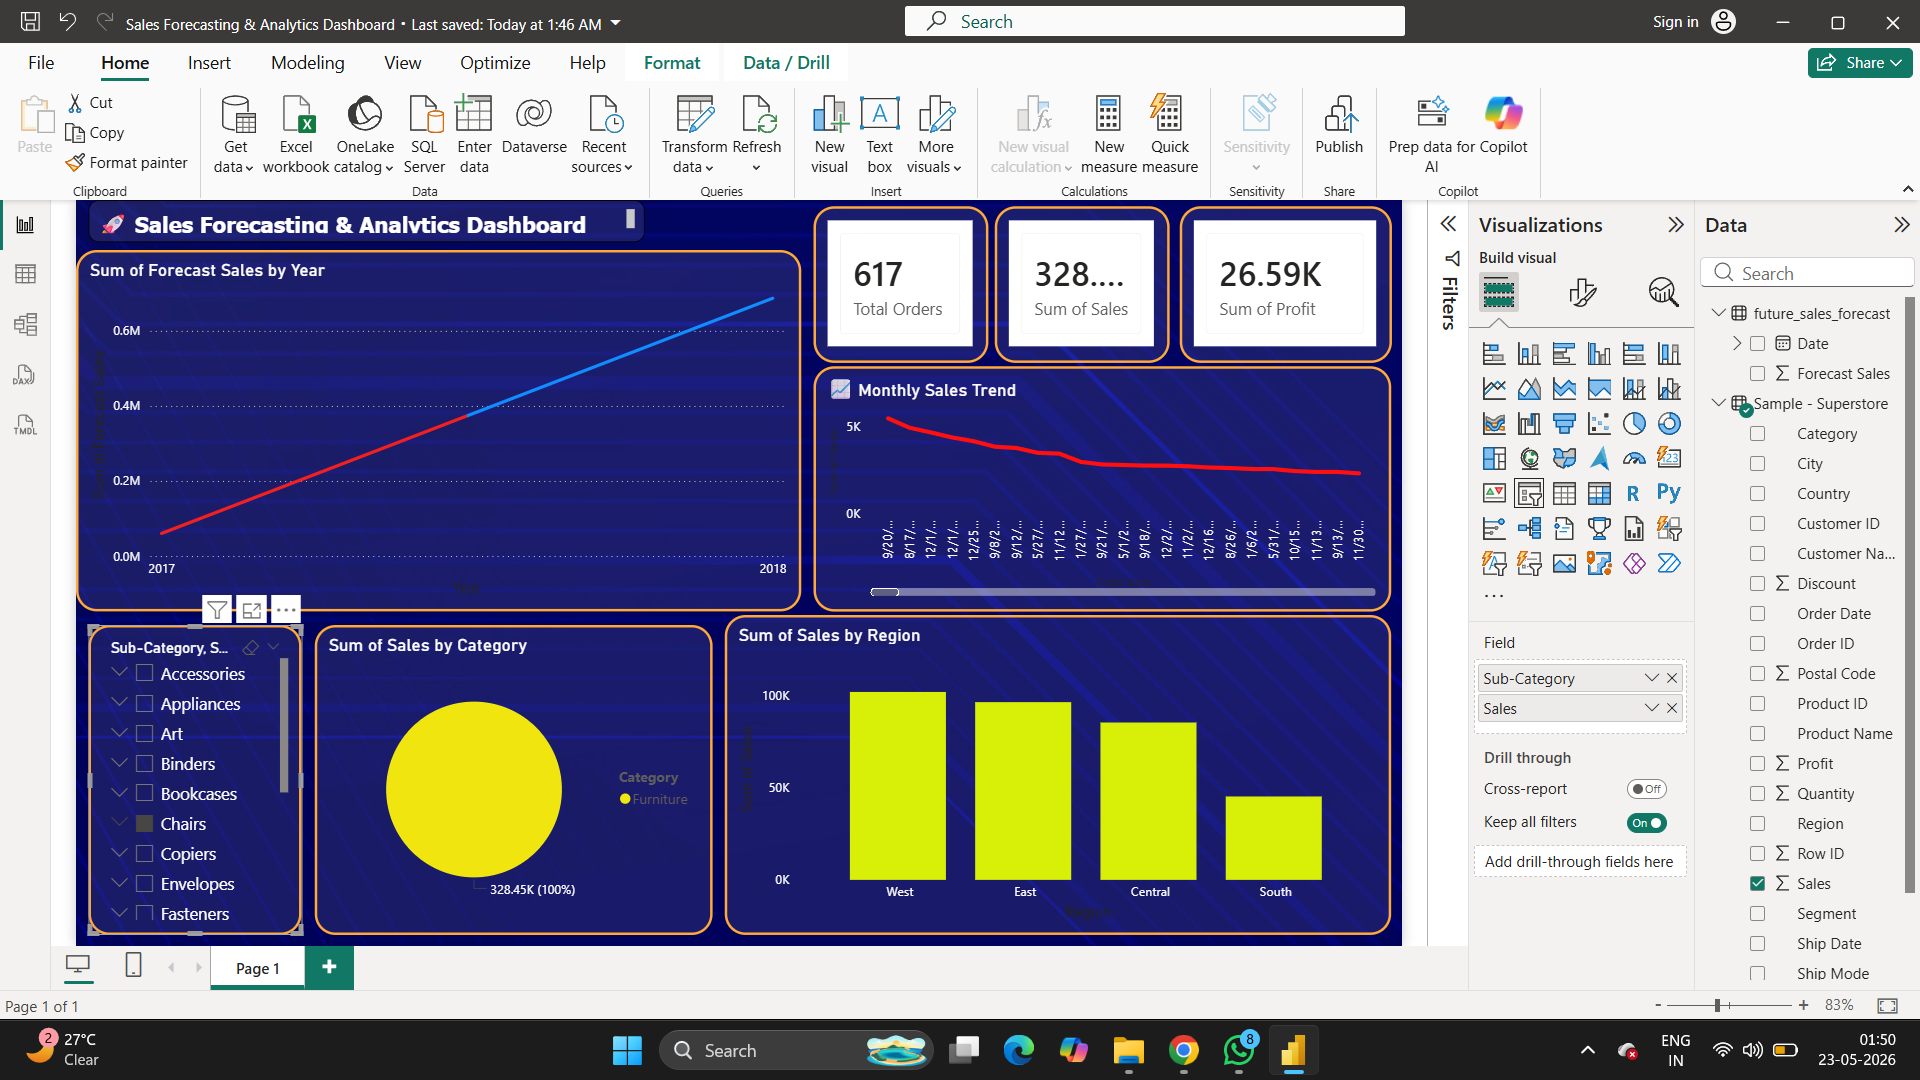

The page's visual inventory and layout, read from the dashboard file:
{"tool":"powerbi","page":{"name":"Page 1","canvas":[1280,720],"ordinal":0},"visuals":[{"type":"cardVisual","fields":{"Data":["Sum(Sample - Superstore.Profit)"]},"box":[1064.8,5.5,204.5,150.9],"z":0},{"type":"cardVisual","fields":{"Data":["Sum(Sample - Superstore.Sales)"]},"box":[886.5,5.5,168.8,150.9],"z":1000},{"type":"cardVisual","fields":{"Data":["Sample - Superstore.Total Orders"]},"box":[712.2,5.5,168.8,150.9],"z":2000},{"type":"lineChart","title":"📈 Monthly Sales Trend","fields":{"Category":["Sample - Superstore.Order Date"],"Y":["Sum(Sample - Superstore.Sales)"]},"box":[12.1,41,690.1,359.5],"z":3000},{"type":"clusteredColumnChart","fields":{"Category":["Sample - Superstore.Region"],"Y":["Sum(Sample - Superstore.Sales)"]},"box":[626.1,410.2,643,299.2],"z":4000},{"type":"pieChart","fields":{"Category":["Sample - Superstore.Category"],"Y":["Sum(Sample - Superstore.Sales)"]},"box":[226.8,410.2,386.1,299.2],"z":5000},{"type":"slicer","fields":{"Values":["Sample - Superstore.Sub-Category","Sample - Superstore.Sales"]},"box":[12.3,410.3,205.8,299.1],"z":6000},{"type":"areaChart","fields":{"Category":["future_sales_forecast.Date.Variation.Date Hierarchy.Year","future_sales_forecast.Date.Variation.Date Hierarchy.Month","future_sales_forecast.Date.Variation.Date Hierarchy.Day"],"Y":["Sum(future_sales_forecast.Forecast Sales)"]},"box":[711.8,160.5,557.4,240.1],"z":7000},{"type":"textbox","box":[12.3,0,536.5,41.2],"z":8000}]}

Visuals, with their boxes on the page's 1280x720 design canvas (x1, y1, x2, y2). These are canvas units, not pixel positions in the 1920x1080 screenshot, which may show the page scaled, cropped or inside an application window:
cardVisual - Sum(Sample - Superstore.Profit): <bbox>1065, 6, 1269, 156</bbox>
cardVisual - Sum(Sample - Superstore.Sales): <bbox>886, 6, 1055, 156</bbox>
cardVisual - Sample - Superstore.Total Orders: <bbox>712, 6, 881, 156</bbox>
"📈 Monthly Sales Trend" lineChart: <bbox>12, 41, 702, 400</bbox>
clusteredColumnChart - Sample - Superstore.Region x Sum(Sample - Superstore.Sales): <bbox>626, 410, 1269, 709</bbox>
pieChart - Sample - Superstore.Category x Sum(Sample - Superstore.Sales): <bbox>227, 410, 613, 709</bbox>
slicer - Sample - Superstore.Sub-Category x Sample - Superstore.Sales: <bbox>12, 410, 218, 709</bbox>
areaChart - future_sales_forecast.Date.Variation.Date Hierarchy.Year x future_sales_forecast.Date.Variation.Date Hierarchy.Month: <bbox>712, 160, 1269, 401</bbox>
textbox: <bbox>12, 0, 549, 41</bbox>
